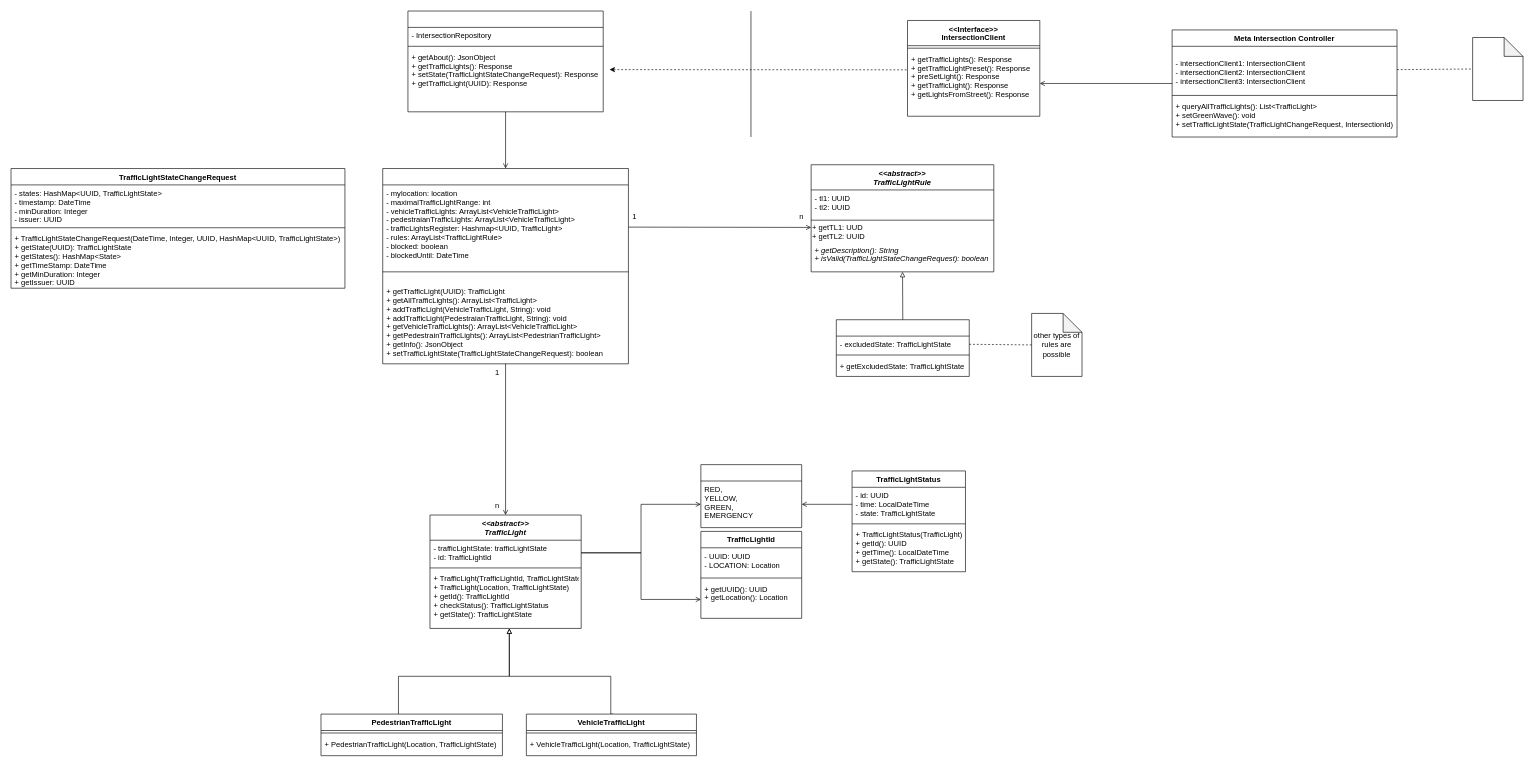
The diagram is 1534 pixels wide and 769 high, and some of its shapes have lost their labels. Here are the shapes that lost their labels. From the top down, the box of each, then its label:
(407, 10, 603, 112): IntersectionController
(1472, 37, 1523, 100): endpoint later used by the TMC client
(382, 168, 628, 364): Intersection
(836, 319, 969, 376): ExcludingRule
(700, 464, 802, 528): TrafficLightState (ENUM)
